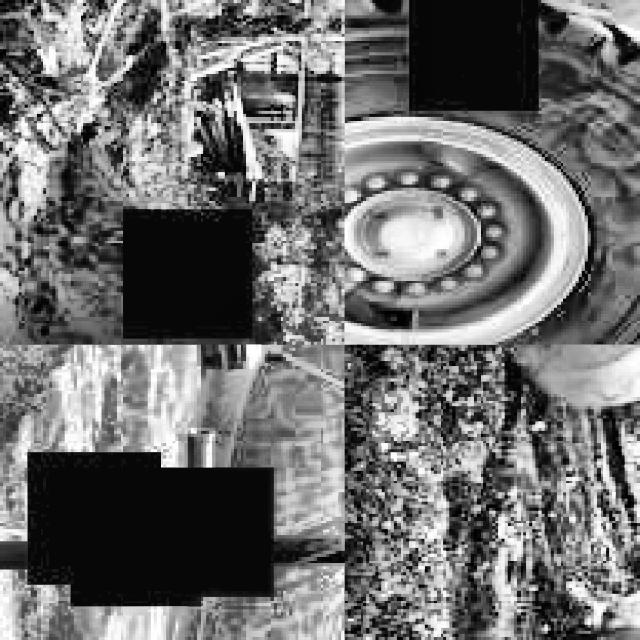buldozerpayloadergrader: (344, 0, 640, 341)
excavator: (483, 345, 640, 526)
